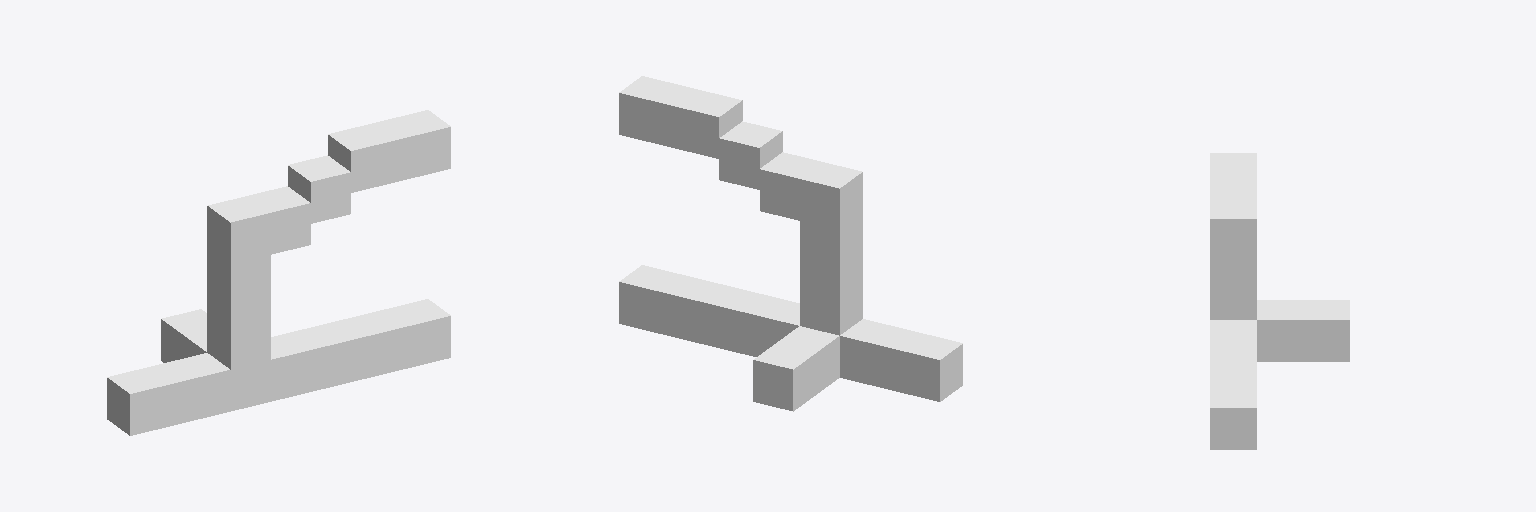
The model's file is bibelot_2_p_2.obj.
3 renders of one model, left to right at view 1: azimuth 30°, elevation 25°; view 2: azimuth 150°, elevation 25°; view 3: azimuth 270°, elevation 25°, orthographic.
Size of the model in its own units: 16 by 11 by 6.